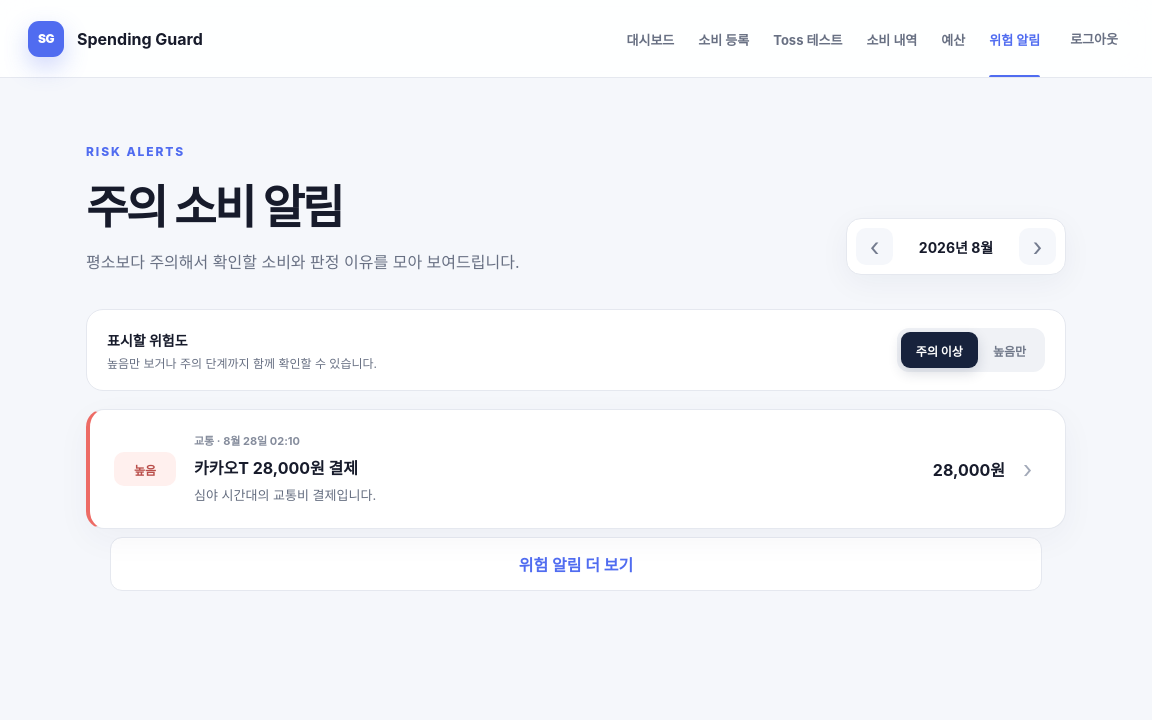
Test case: RiskAlertFeed › appends the next cursor page
The width and height of the screenshot is (1152, 720).
Expected: the text "카카오T 28,000원 결제" is shown, left=194, top=458, right=358, bottom=478
What coordinates should you click on to do the following:
click the button "위험 알림 더 보기"
I would click on:
 (576, 564)
Its box is left=110, top=537, right=1042, bottom=591.
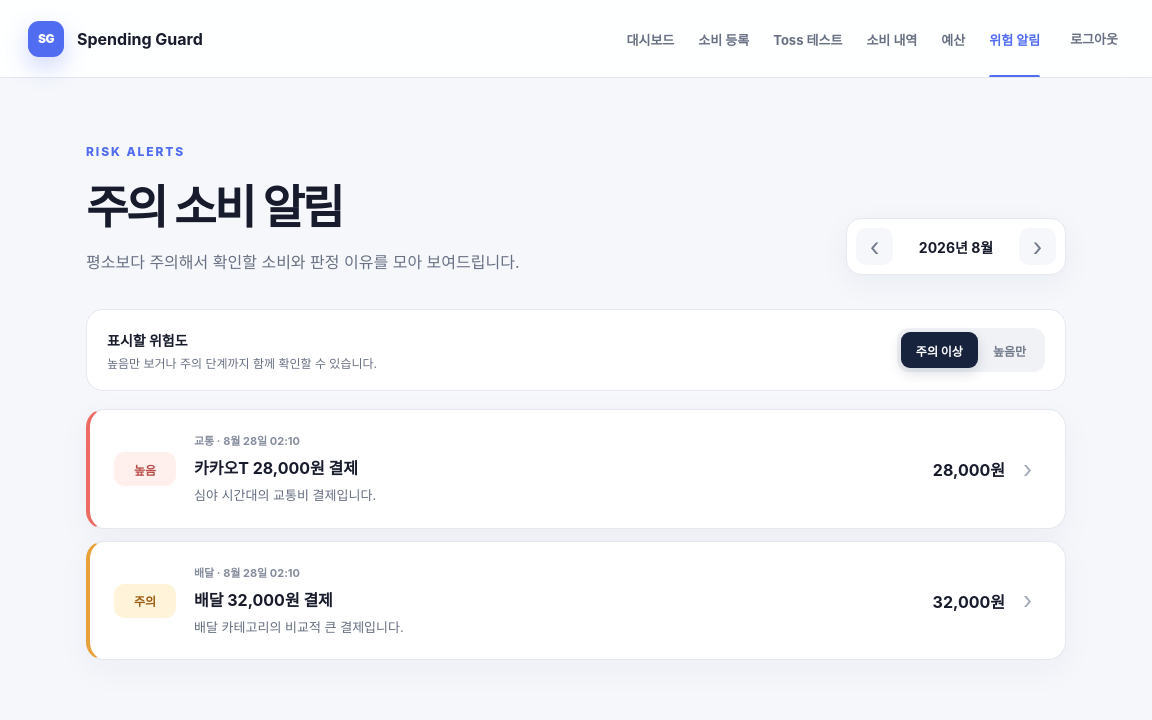
Expected: the text "카카오T 28,000원 결제" is shown, left=194, top=458, right=358, bottom=478
Expected: the text "배달 32,000원 결제" is shown, left=194, top=590, right=333, bottom=610
